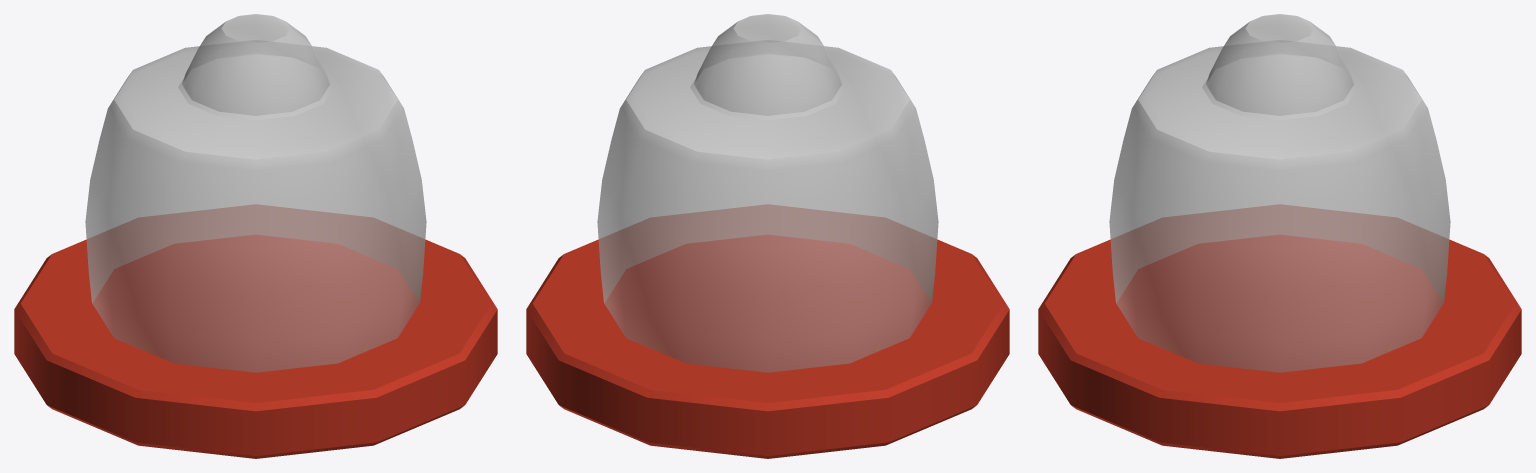
File: prezervatif_small.fbx
The picture shows the model from 3 angles, left to right: view 1: azimuth 30°, elevation 25°; view 2: azimuth 150°, elevation 25°; view 3: azimuth 270°, elevation 25°; orthographic projection.
Parts seen in each view (by area): view 1: pCylinder7, pCylinder6; view 2: pCylinder7, pCylinder6; view 3: pCylinder7, pCylinder6.
Boxes of the visible parts, x1=… form: pCylinder7: x1=85, y1=14, x2=426, y2=372; pCylinder6: x1=14, y1=205, x2=497, y2=458; pCylinder7: x1=597, y1=14, x2=938, y2=372; pCylinder6: x1=526, y1=205, x2=1009, y2=458; pCylinder7: x1=1109, y1=14, x2=1450, y2=372; pCylinder6: x1=1038, y1=205, x2=1521, y2=458.
Size of the model in its own units: 2.18 by 2.18 by 1.64.
